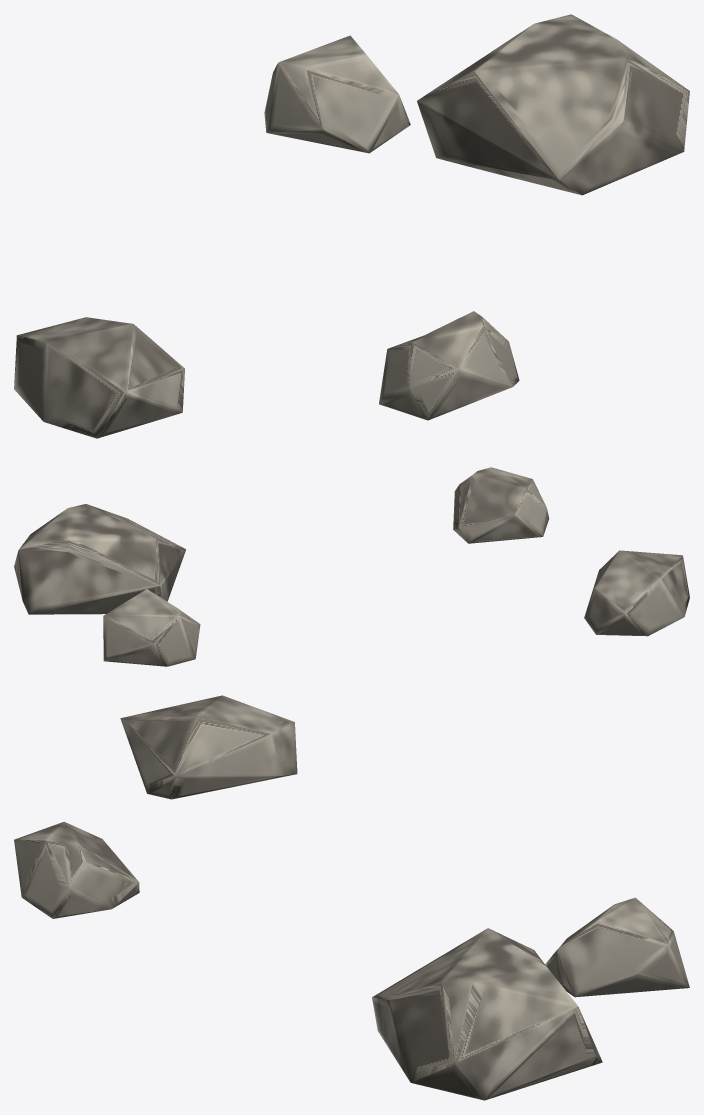
The model's file is rocks_lp1.gltf.
The picture shows the model from 3 angles, top to bottom: view 1: azimuth 30°, elevation 25°; view 2: azimuth 150°, elevation 25°; view 3: azimuth 270°, elevation 25°; orthographic projection. The views are drawn at different scales.
Visible parts, largest first — view 1: rocks_lp1_stone_LOD0; view 2: rocks_lp1_stone_LOD0; view 3: rocks_lp1_stone_LOD0.
Part boxes in pixels (x1=…): rocks_lp1_stone_LOD0: x1=14, y1=14, x2=689, y2=438; rocks_lp1_stone_LOD0: x1=14, y1=467, x2=689, y2=666; rocks_lp1_stone_LOD0: x1=14, y1=695, x2=689, y2=1100.
Size of what is drawn, in the model's own units: 1.64 by 0.1889 by 1.33.
1 material, 1 textured.
